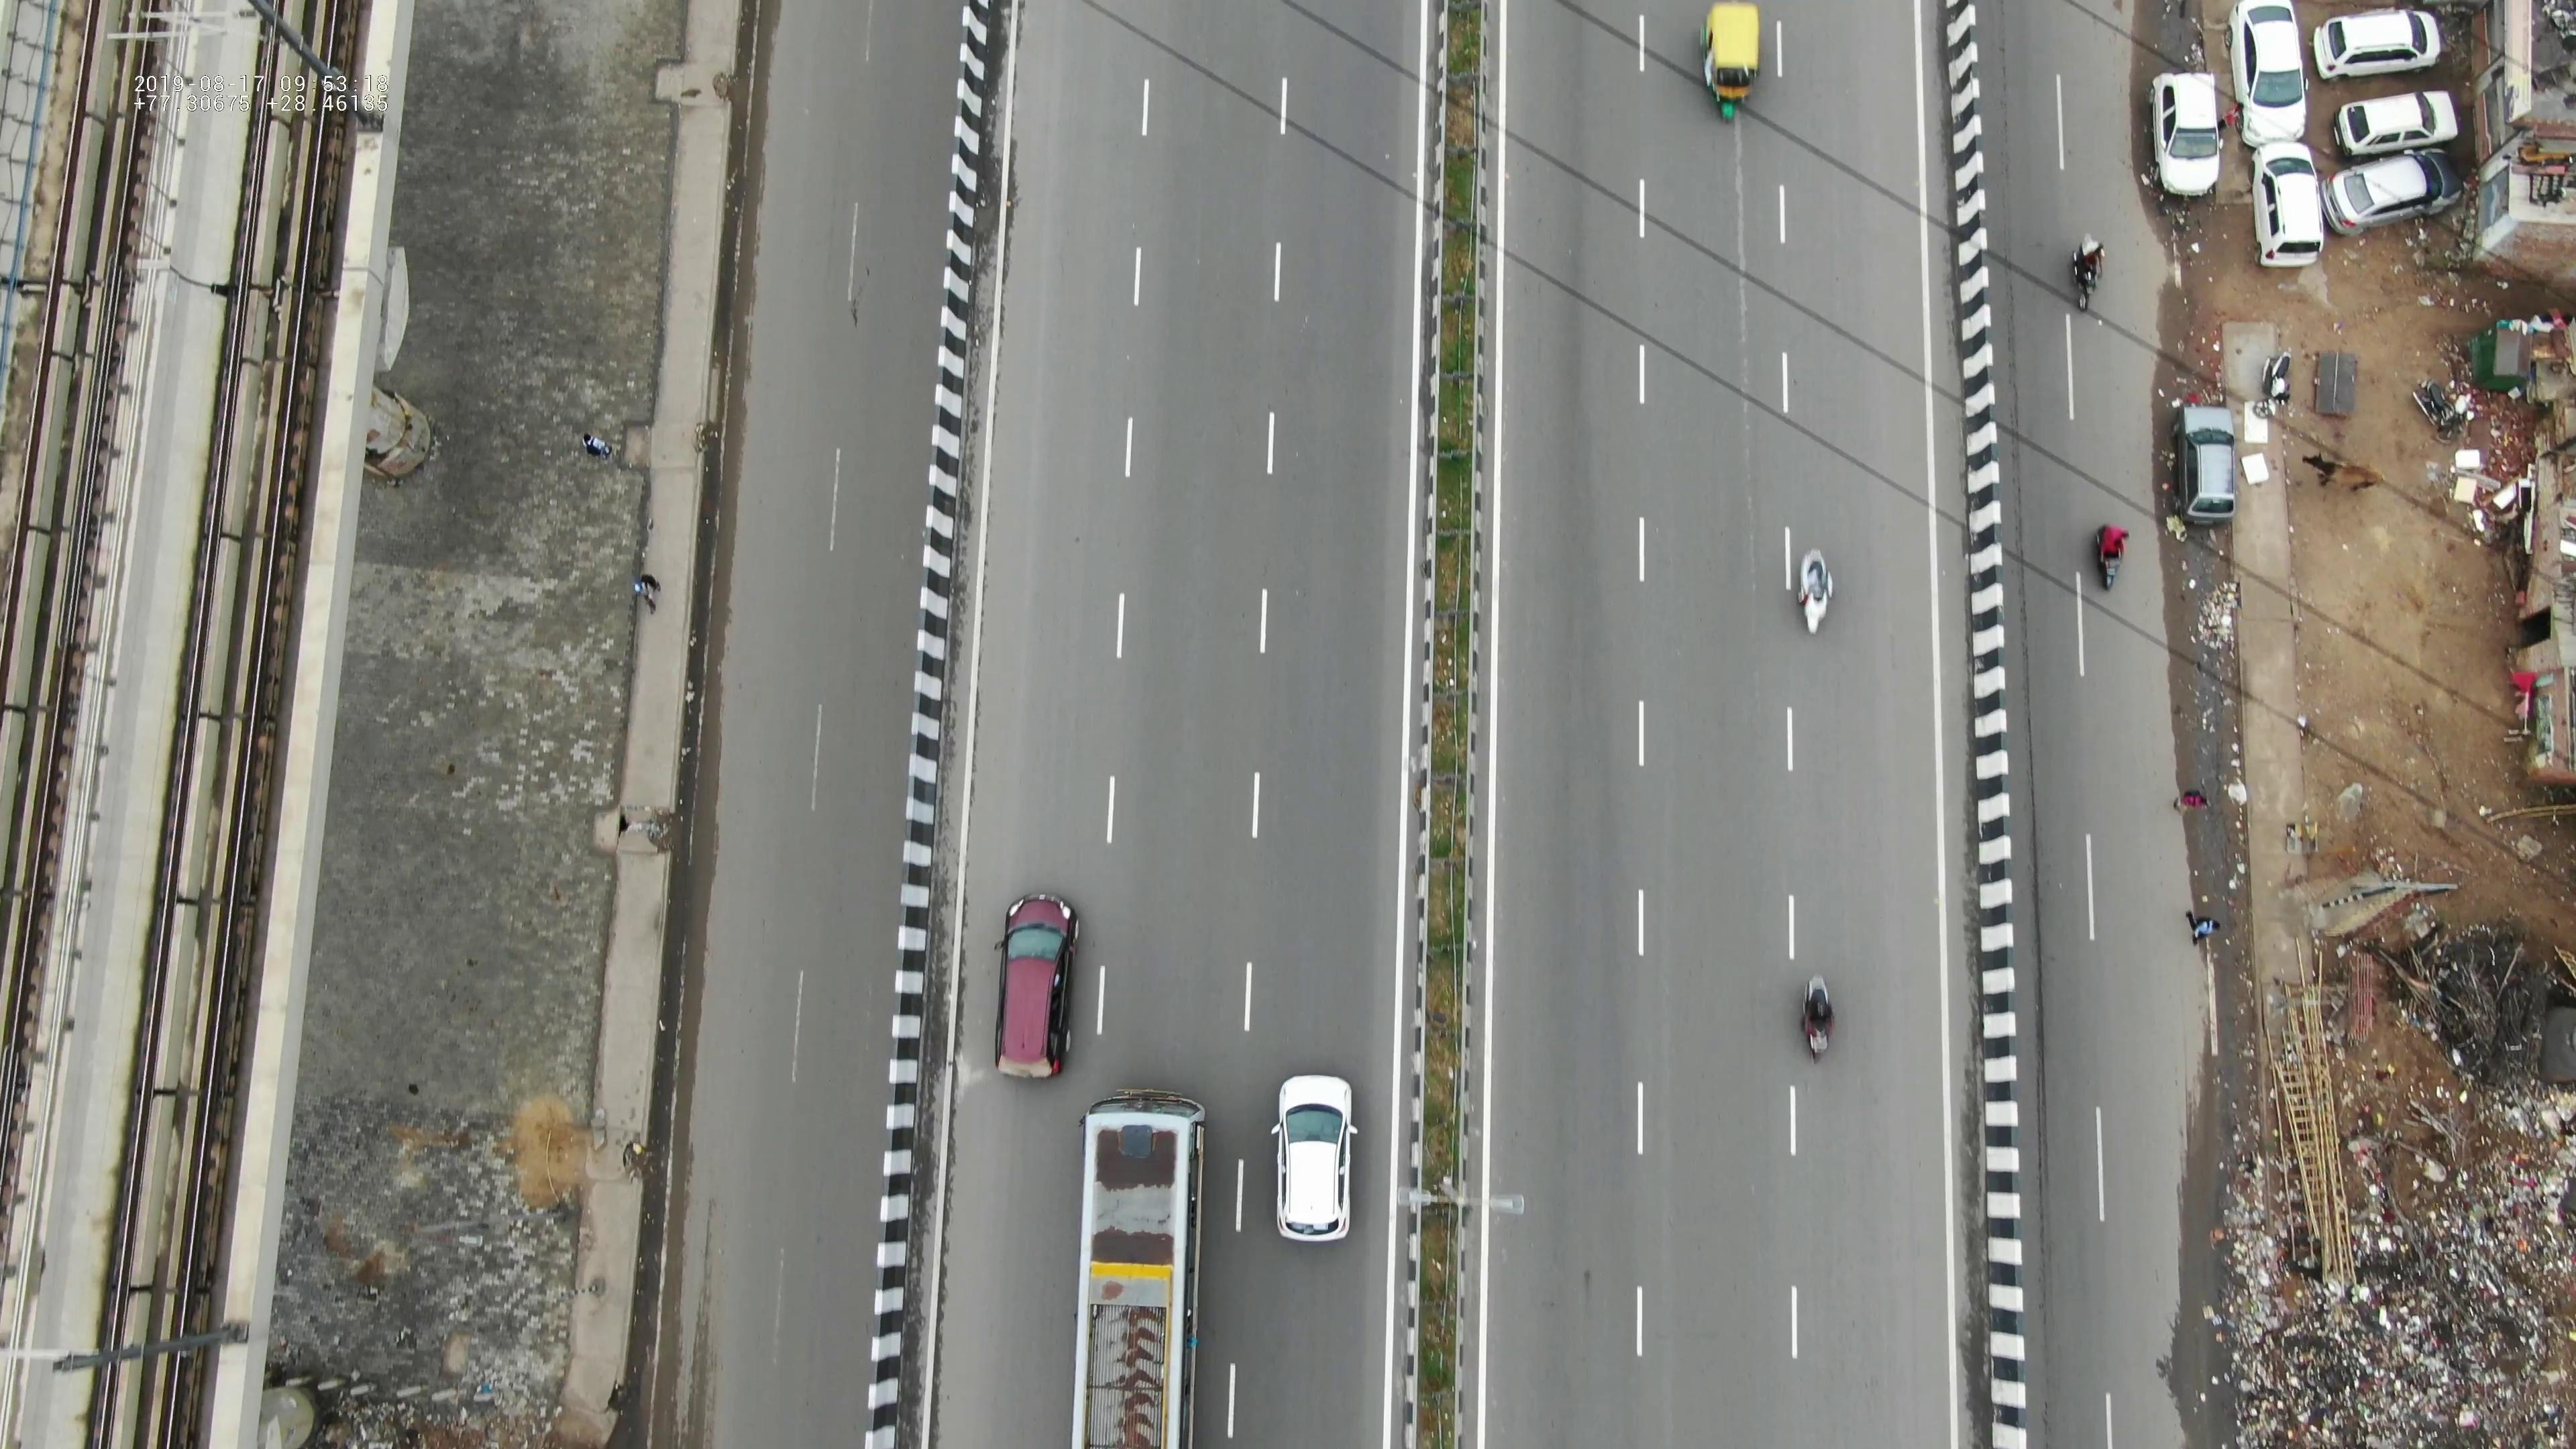Muddy_road: (2158, 566, 2245, 773)
Road_side_garbage: (2220, 1026, 2567, 1449)
